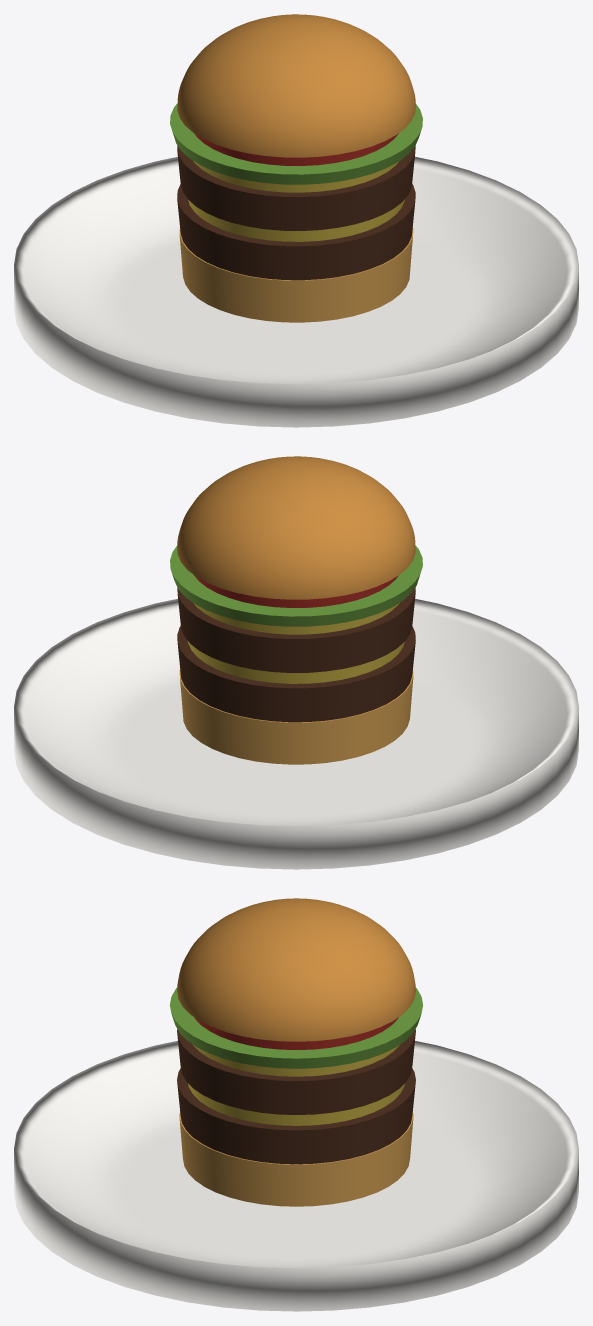
File: burger-2-card.glb
3 views of the same model, one above another, from view 1: azimuth 30°, elevation 25°; view 2: azimuth 150°, elevation 25°; view 3: azimuth 270°, elevation 25° (orthographic).
Bounding box in the file's own units: 0.26 × 0.1416 × 0.26.
